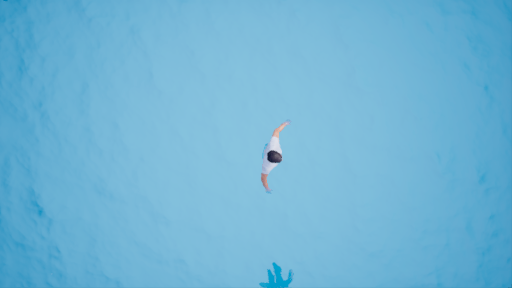person: (253, 111, 299, 194)
